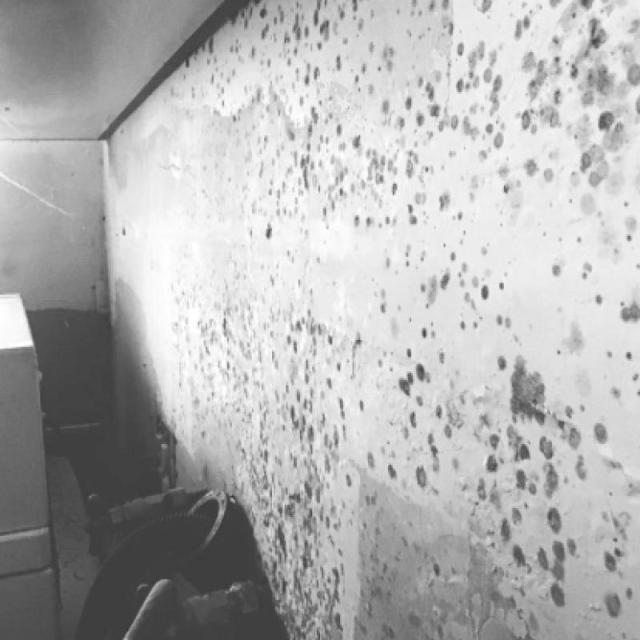stain marks: (158, 0, 640, 637)
